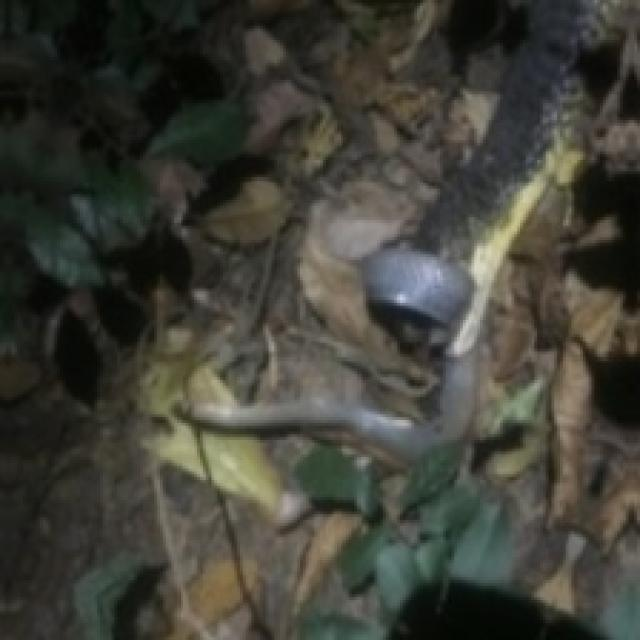king cobra: (143, 0, 637, 483), (474, 303, 560, 431), (380, 243, 474, 360), (520, 357, 534, 389)
